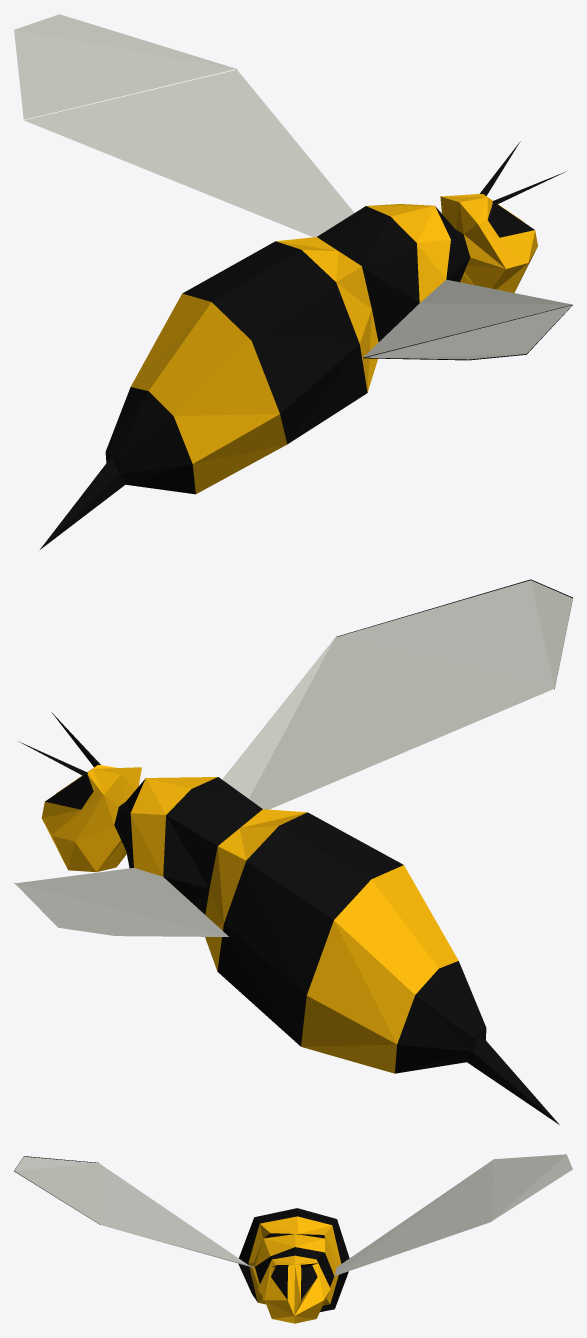
File: bee.obj
The picture shows the model from 3 angles, top to bottom: view 1: azimuth 30°, elevation 25°; view 2: azimuth 150°, elevation 25°; view 3: azimuth 270°, elevation 25°; orthographic projection. The views are drawn at different scales.
Size of the model in its own units: 0.876 by 0.4935 by 1.37.
